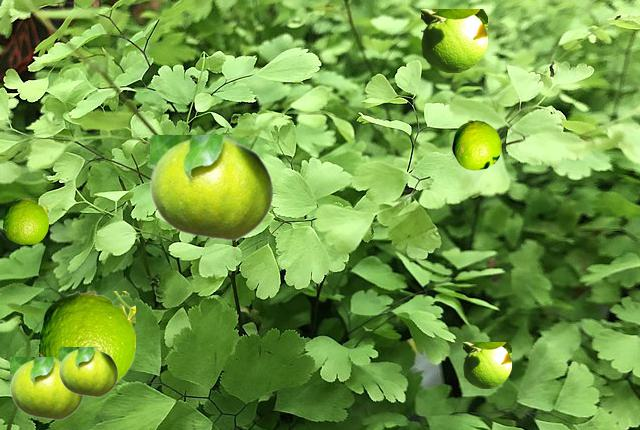dalandan: (150, 135, 273, 240), (39, 291, 134, 382), (10, 357, 83, 419), (421, 9, 486, 71), (59, 347, 117, 396), (452, 120, 500, 169), (463, 342, 510, 387), (3, 198, 47, 243)
